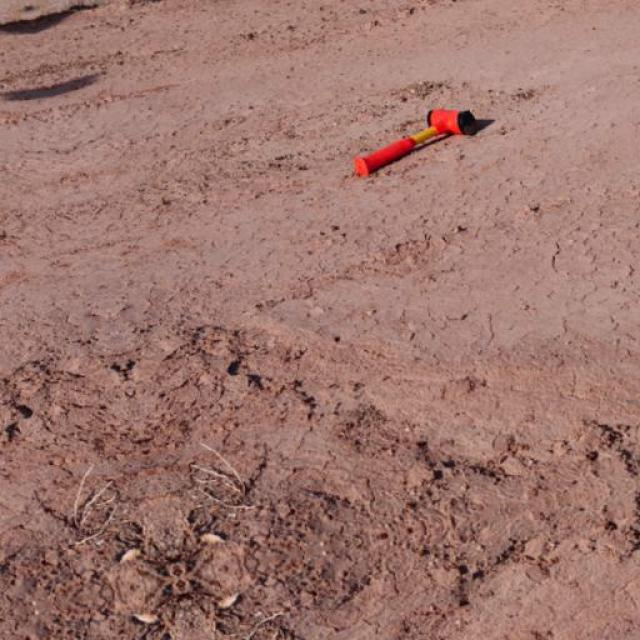mallet: (354, 106, 480, 178)
